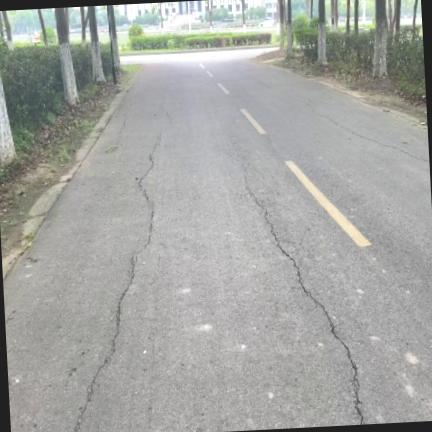Road: (3, 50, 431, 431)
